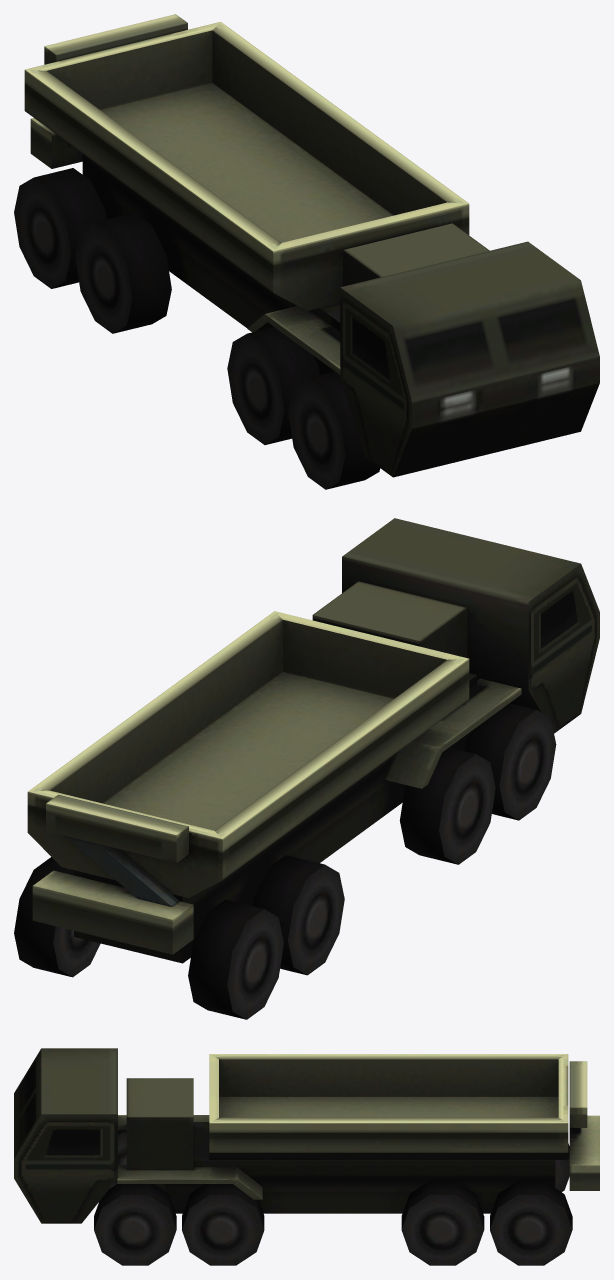
Rendered from HEMMT_Crane.DAE.
The picture shows the model from 3 angles, top to bottom: view 1: azimuth 30°, elevation 25°; view 2: azimuth 150°, elevation 25°; view 3: azimuth 270°, elevation 25°; orthographic projection. The views are drawn at different scales.
Visible parts, largest first — view 1: _1141_HEMMTCrane; view 2: _1141_HEMMTCrane; view 3: _1141_HEMMTCrane.
Part boxes in pixels (x1,y1,x2,y2): _1141_HEMMTCrane: (14,14,599,489); _1141_HEMMTCrane: (14,518,599,1019); _1141_HEMMTCrane: (14,1048,599,1265).
Size of the model in its own units: 69.67 by 62.62 by 228.
Materials: 1 (1 with a texture image).
